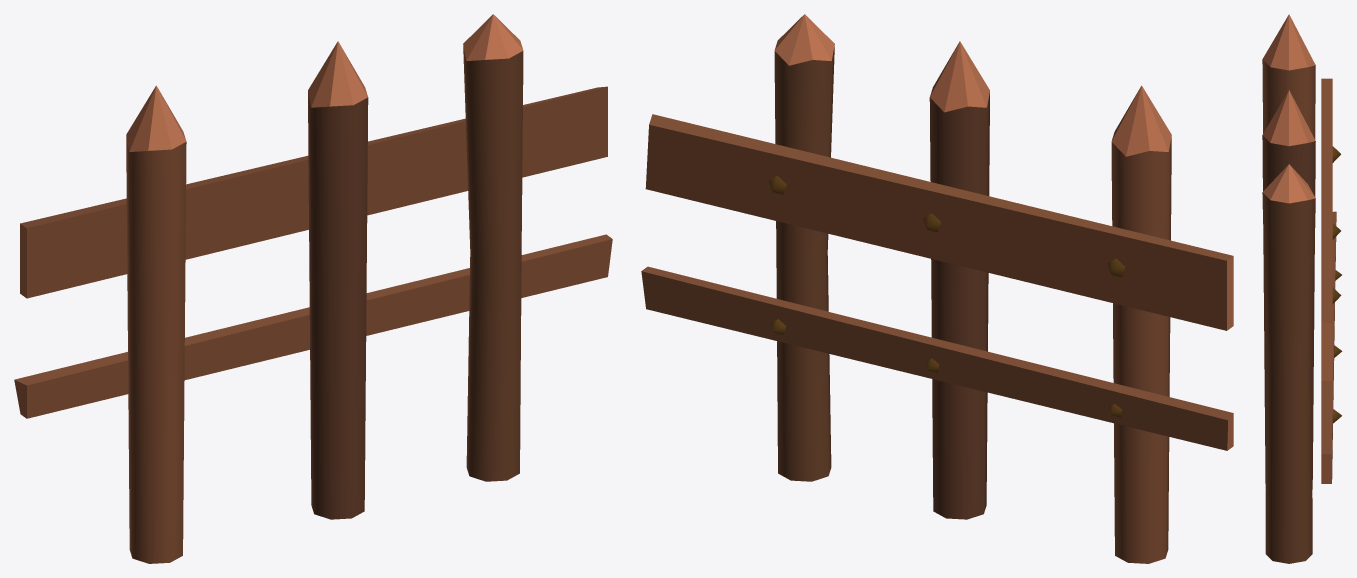
Rendered from fense-ver2-dark.glb.
3 views of the same model, side by side, from view 1: azimuth 30°, elevation 25°; view 2: azimuth 150°, elevation 25°; view 3: azimuth 270°, elevation 25° (orthographic). The views are drawn at different scales.
Visible parts, largest first — view 1: Fense-ver2-dark_Texture-base_0; view 2: Fense-ver2-dark_Texture-base_0; view 3: Fense-ver2-dark_Texture-base_0.
Part boxes in pixels (box(x1,y1,x2,y2)): Fense-ver2-dark_Texture-base_0: box(14, 14, 612, 563); Fense-ver2-dark_Texture-base_0: box(641, 14, 1233, 563); Fense-ver2-dark_Texture-base_0: box(1262, 14, 1342, 563).
Size of the model in its own units: 1.61 by 1.22 by 0.2214.
1 material, 1 textured.
